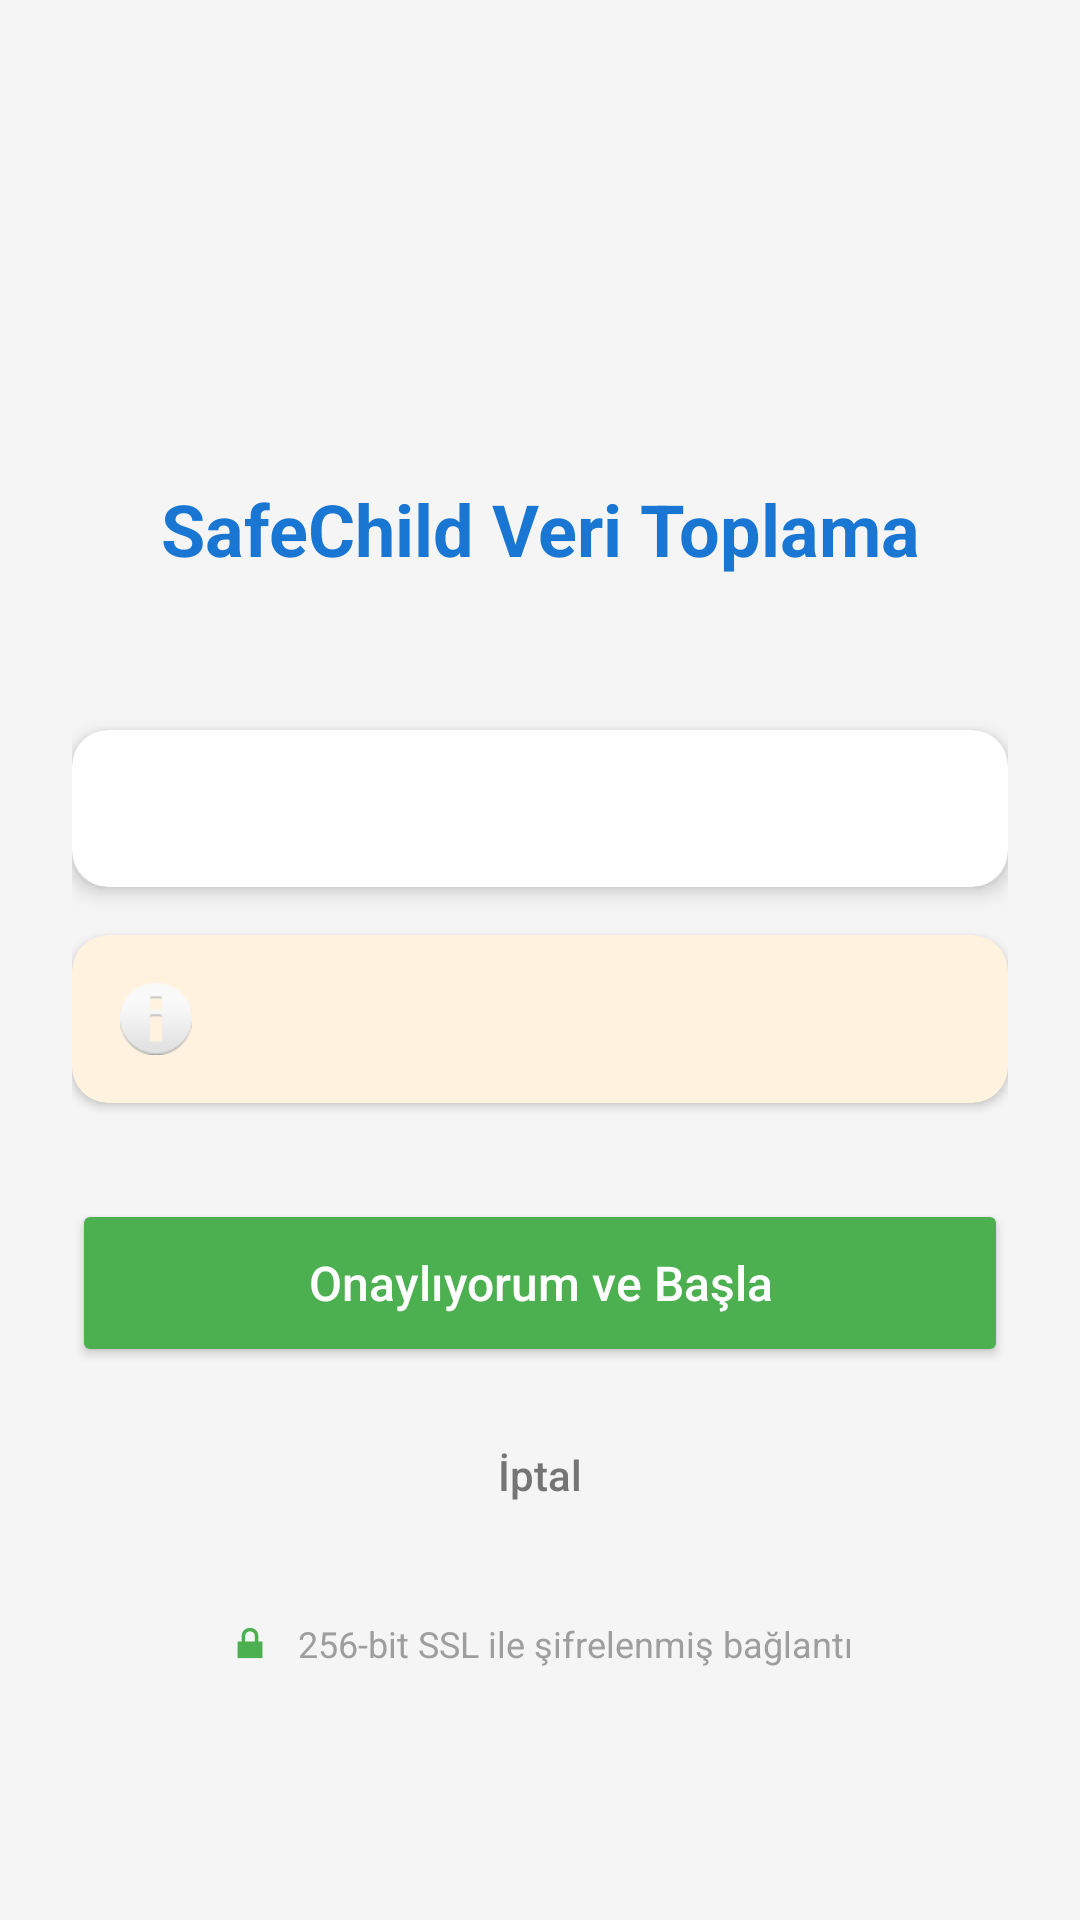

Locate icon controls on the screen. Image size 1080w x 1920h, boxes as (x1, y1, x2, y2).
info: (120, 983, 192, 1055)
lock: (237, 1628, 263, 1658)
